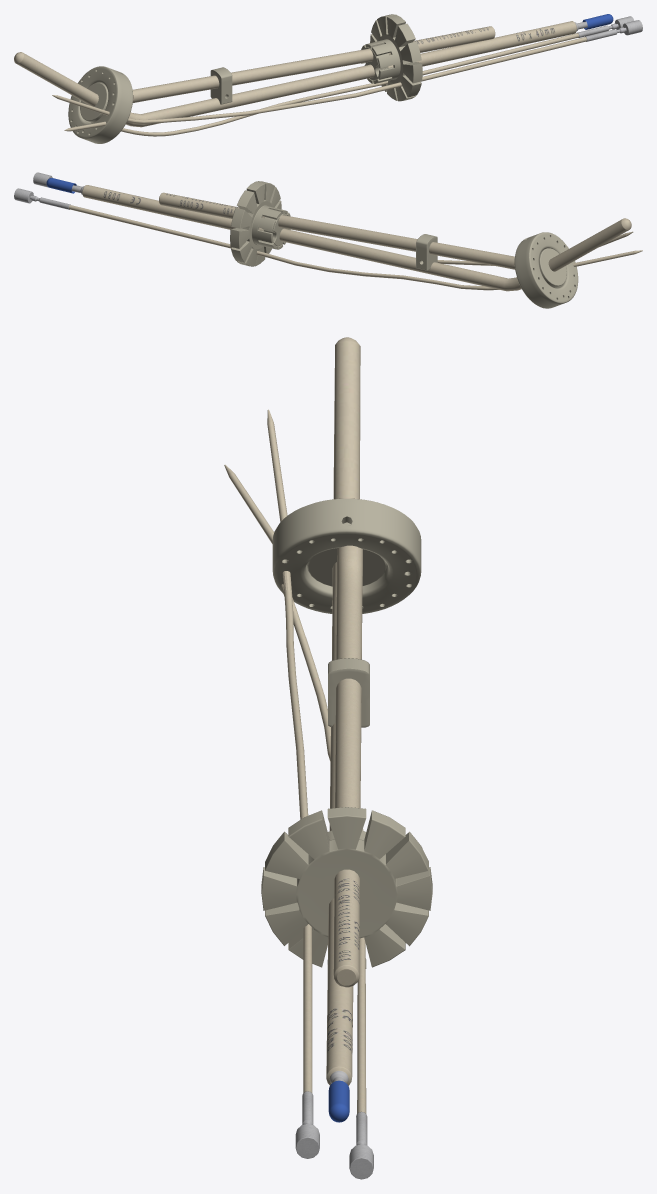
The model's file is RingApplicator.glb.
The picture shows the model from 3 angles, top to bottom: view 1: azimuth 30°, elevation 25°; view 2: azimuth 150°, elevation 25°; view 3: azimuth 270°, elevation 25°; orthographic projection. The views are drawn at different scales.
Parts seen in each view (by area): view 1: Buffer Layer (×6), ring1, Outer_Ring, middle_Piece_block1, pCylinder2, pCylinder3, pCylinder1; view 2: Buffer Layer (×5), ring1, Outer_Ring, pCylinder2, middle_Piece_block1, pCylinder3, pCylinder1; view 3: Buffer Layer (×4), ring1, Outer_Ring, middle_Piece_block1, pCylinder2.
Boxes of the visible parts, left/top/right/bottom form: Buffer Layer (×6): left=14, top=16, right=642, bottom=136; ring1: left=361, top=14, right=422, bottom=101; Outer_Ring: left=68, top=66, right=133, bottom=143; middle_Piece_block1: left=210, top=67, right=232, bottom=104; pCylinder2: left=80, top=82, right=108, bottom=122; pCylinder3: left=582, top=14, right=613, bottom=29; pCylinder1: left=364, top=47, right=389, bottom=80; Buffer Layer (×5): left=14, top=185, right=642, bottom=291; ring1: left=230, top=181, right=290, bottom=266; Outer_Ring: left=514, top=232, right=578, bottom=308; pCylinder2: left=539, top=248, right=566, bottom=287; middle_Piece_block1: left=416, top=234, right=437, bottom=270; pCylinder3: left=46, top=178, right=76, bottom=193; pCylinder1: left=262, top=213, right=287, bottom=246; Buffer Layer (×4): left=224, top=337, right=366, bottom=1113; ring1: left=261, top=807, right=432, bottom=968; Outer_Ring: left=272, top=498, right=421, bottom=613; middle_Piece_block1: left=328, top=658, right=369, bottom=727; pCylinder2: left=307, top=548, right=386, bottom=586.
Bounding box in the file's own units: 0.1374 × 0.0288 × 0.0203.
5 materials, 2 textured.
